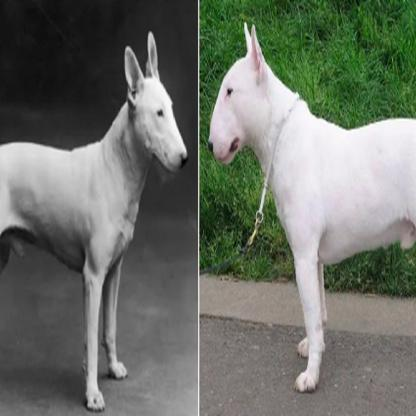dog: (208, 23, 415, 393), (1, 31, 188, 412)
